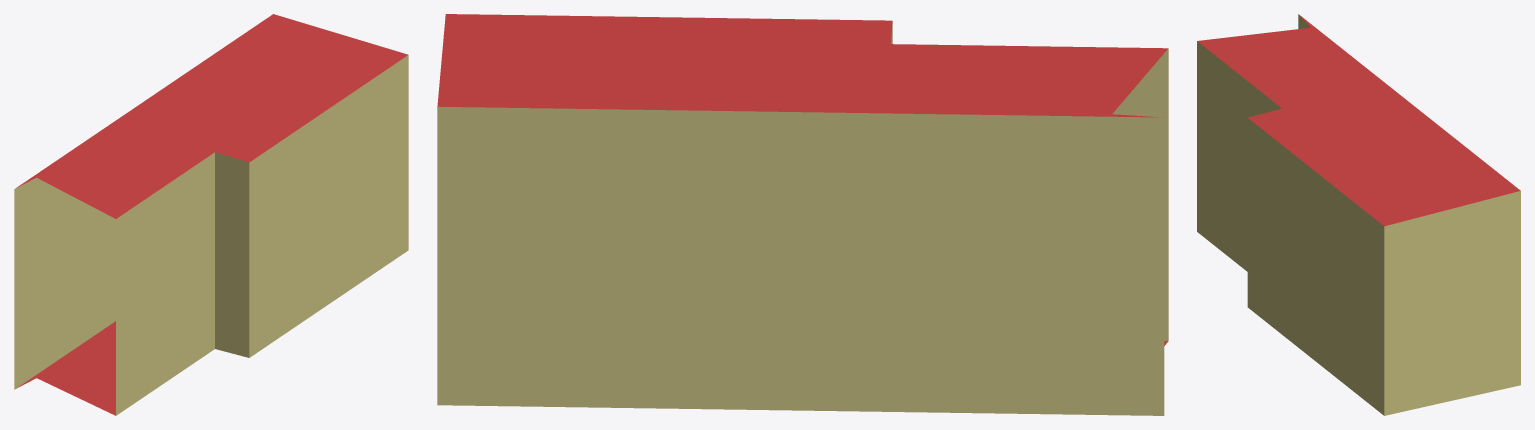
3 views of the same model, side by side, from view 1: azimuth 30°, elevation 25°; view 2: azimuth 150°, elevation 25°; view 3: azimuth 270°, elevation 25° (orthographic). The views are drawn at different scales.
Bounding box in the file's own units: 14.41 × 9.5 × 6.29.
